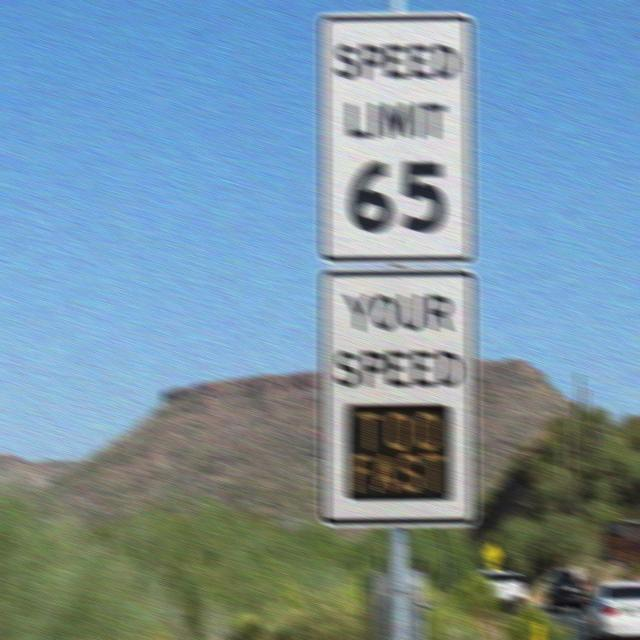speedLimit65: (318, 17, 474, 258)
